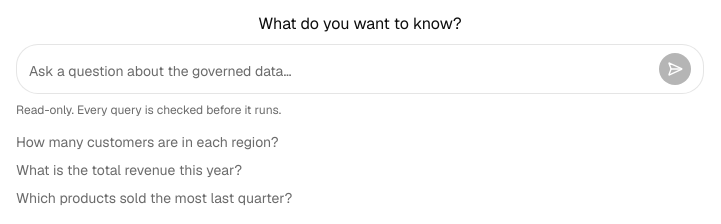
new conversation › shows three examples and a click fills the composer
This screenshot has width=721, height=224.
Expected: the text "What do you want to know?" is shown, [258,12,462,36]
Expected: the link "How many customers are in each region?" is shown, [16,133,279,151]
Click the link "What is the total revenue this year?" at (129, 170), box [16,161,242,179]
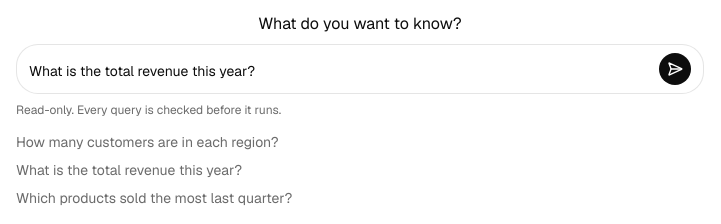
Expected: the text box named "Ask a question about the governed data" holds "What is the total revenue this year?", [29,57,651,85]
